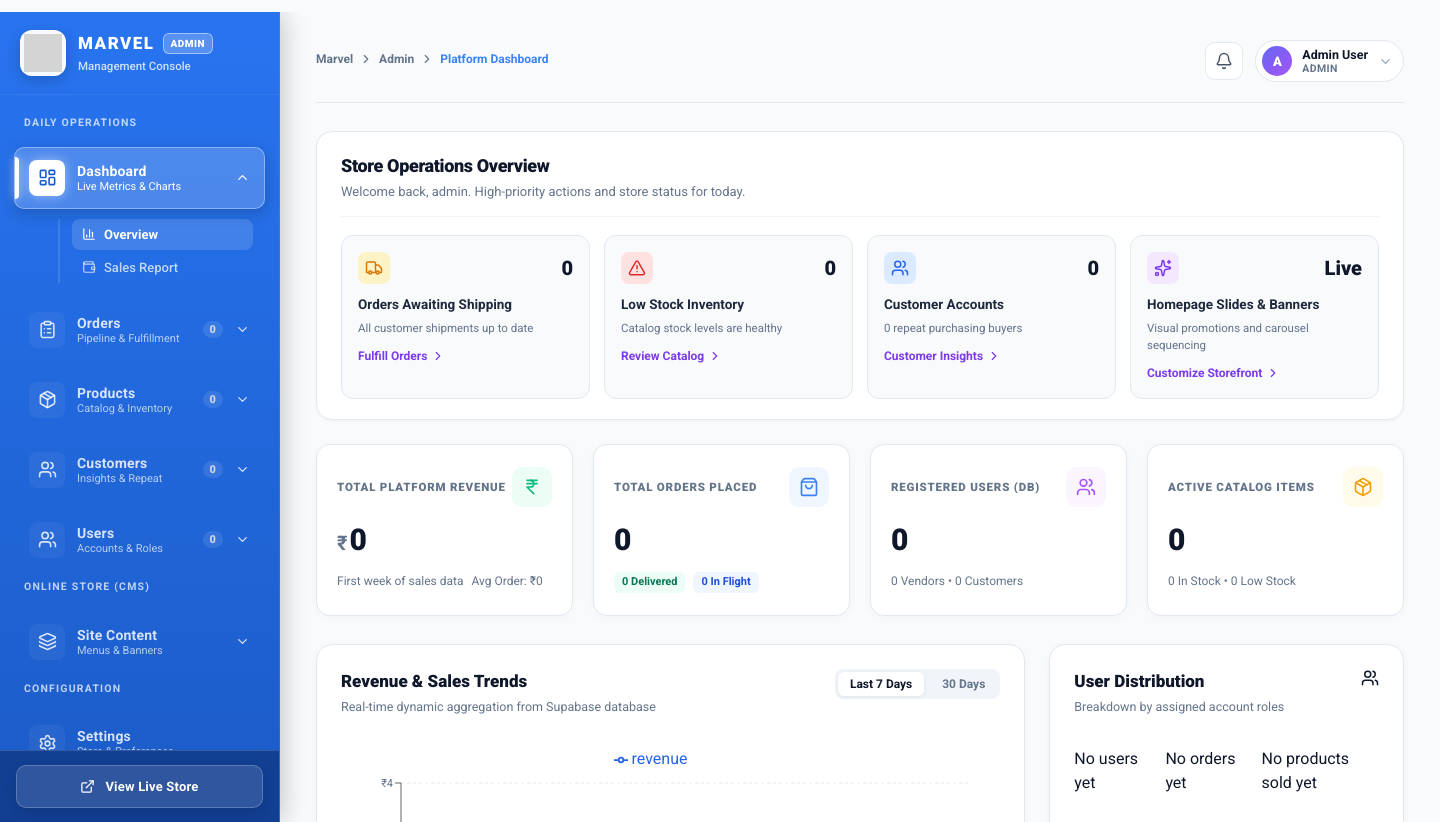
UnifiedAdminConsole › shows the sales report with real-data sections
Expected: the navigation bar is shown, [0,95,279,750]
Step 1. Click the button "Sales Report" → [162, 267], box [72,252,253,283]
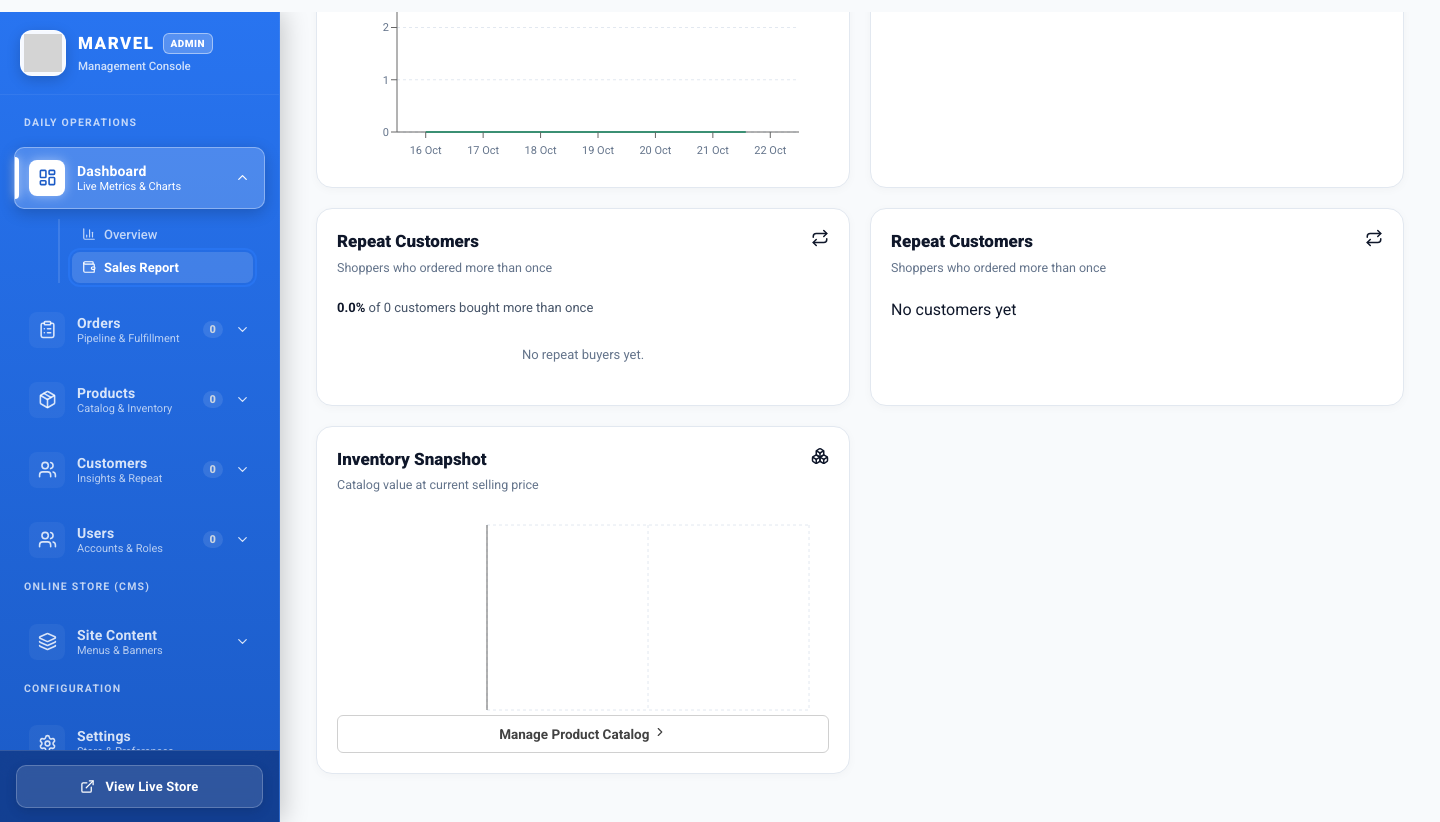
Now the heading "Inventory Snapshot" is shown, box [337,448,487,468]
